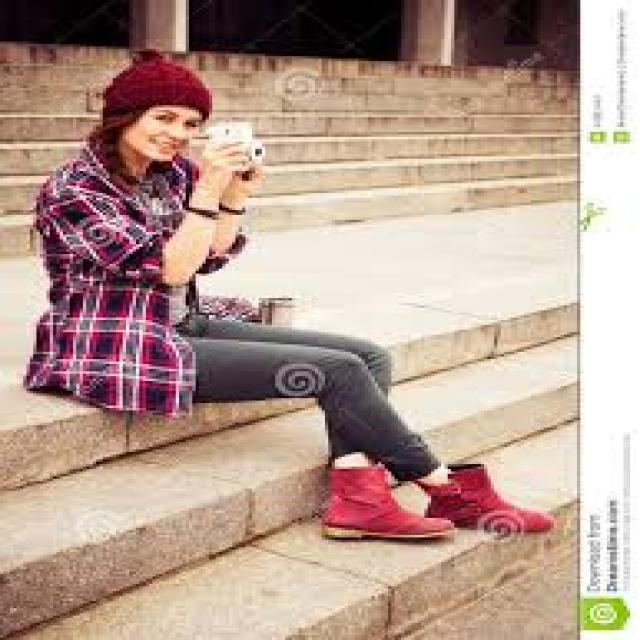nonfall: (47, 46, 546, 561)
